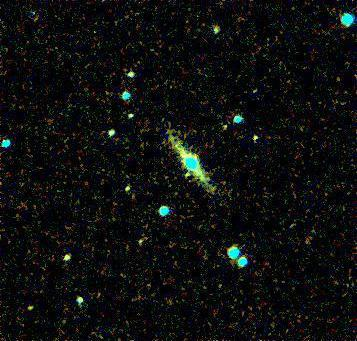star: (174, 162, 204, 192)
